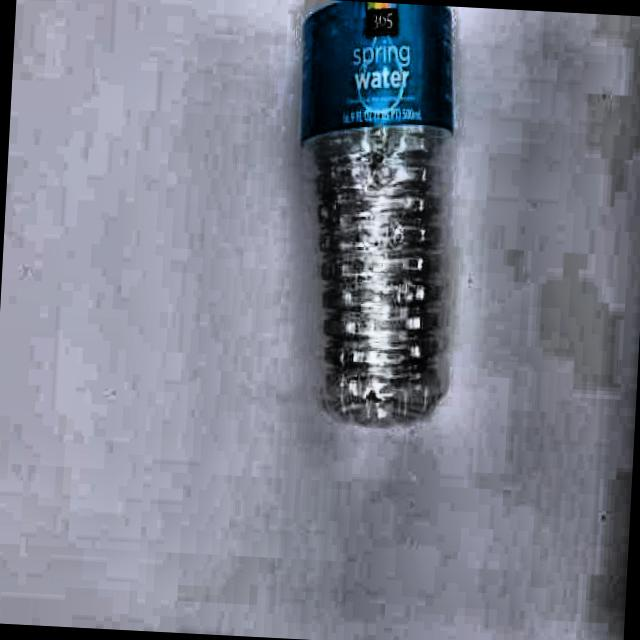plastic bottle: (301, 0, 454, 426)
